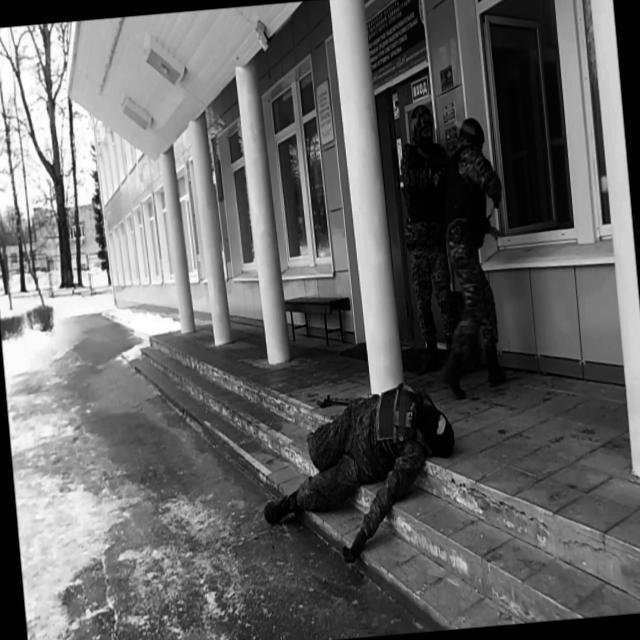gun: (414, 143, 454, 185)
person: (253, 377, 465, 570), (448, 104, 510, 338)
person with a gun: (396, 102, 469, 376)
